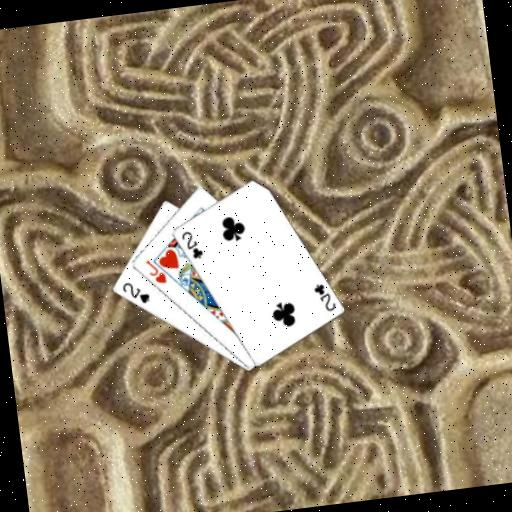2C: (310, 279, 338, 315), (178, 227, 205, 263)
2S: (118, 277, 152, 308)
JH: (142, 255, 169, 287)
